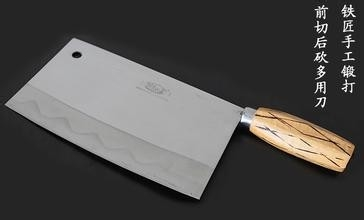knief: (12, 36, 354, 198)
